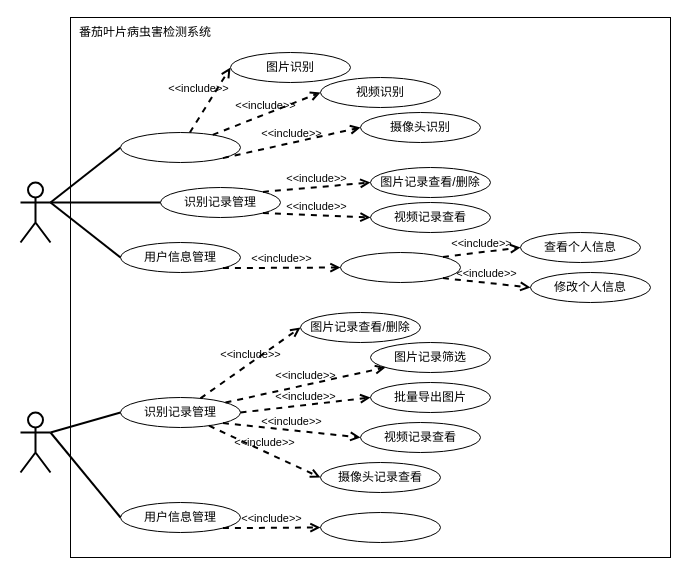
The diagram is 688 pixels wide and 575 high, and some of its shapes have lost their labels. The centre of each missing label's shape, as x and y in pixels:
个人中心: (400,267)
普通用户管理: (380,527)
用户: (35,212)
管理员: (35,442)
识别搜索: (180,147)
